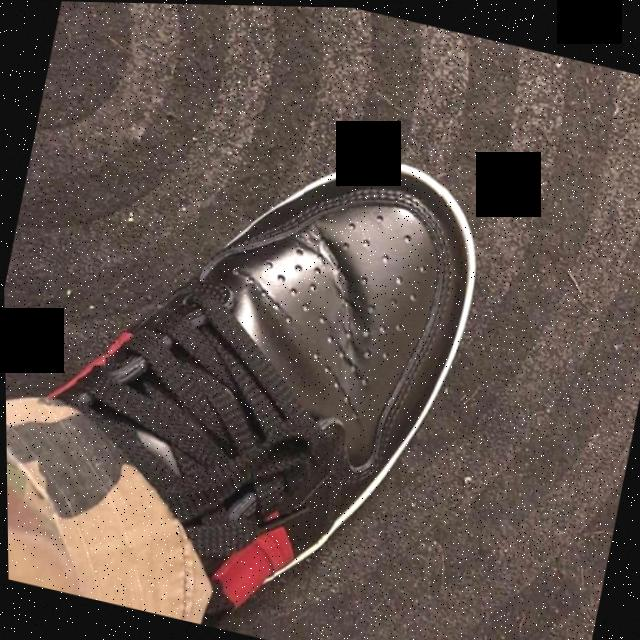shoe: (10, 67, 516, 640)
